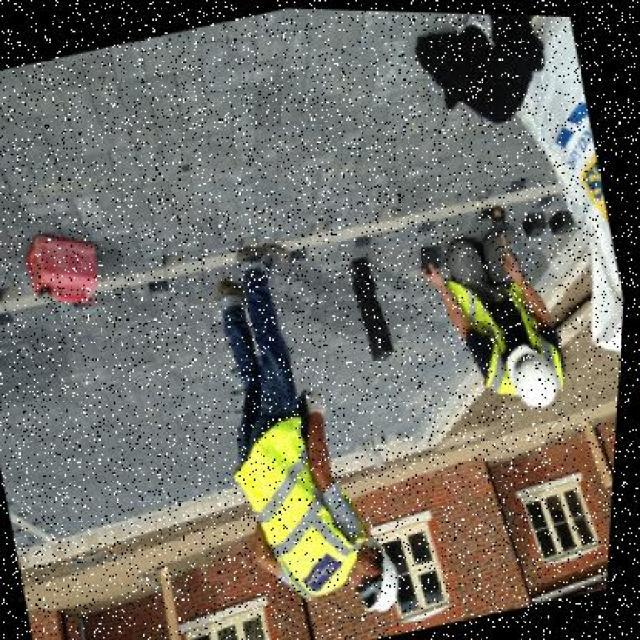helmet: (488, 322, 582, 420), (349, 532, 419, 616)
vest: (211, 389, 393, 595)
